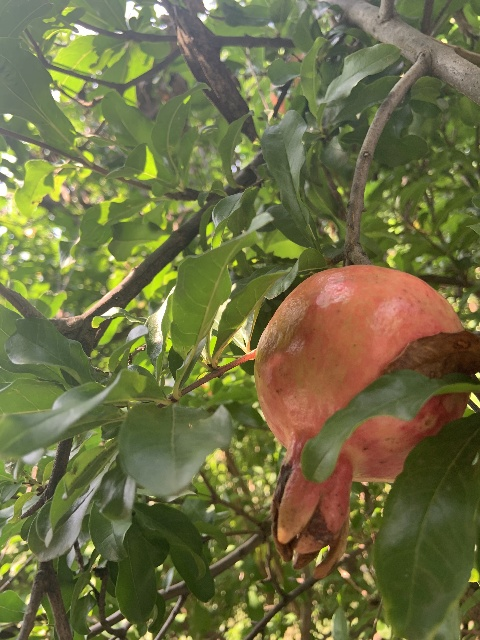ripe: (254, 263, 473, 576)
